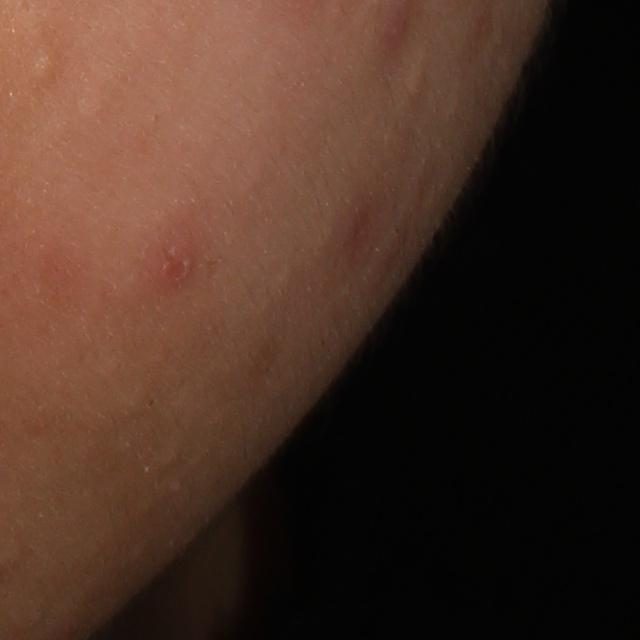comedo: (25, 48, 63, 86), (402, 62, 431, 98)
papule: (137, 219, 213, 287)
